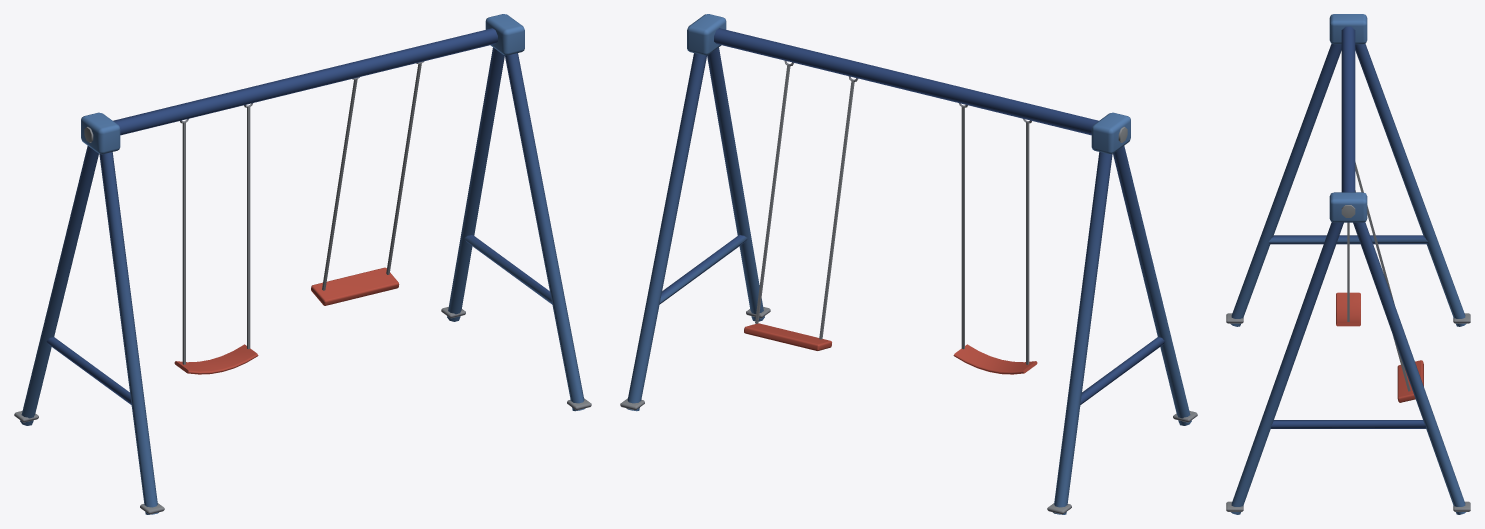
The model's file is SwingSet.fbx.
3 views of the same model, side by side, from view 1: azimuth 30°, elevation 25°; view 2: azimuth 150°, elevation 25°; view 3: azimuth 270°, elevation 25° (orthographic). The views are drawn at different scales.
Visible parts, largest first — view 1: SwingSet; view 2: SwingSet; view 3: SwingSet.
Part boxes in pixels (x1,y1,x2,y2): SwingSet: (14,14,591,514); SwingSet: (620,14,1197,514); SwingSet: (1226,14,1470,514).
Size of the model in its own units: 3.18 by 2.37 by 1.68.
